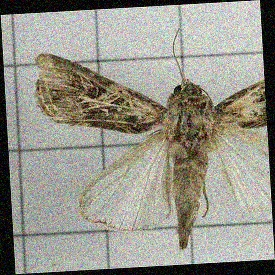Spodoptera litura: (37, 29, 268, 253)
